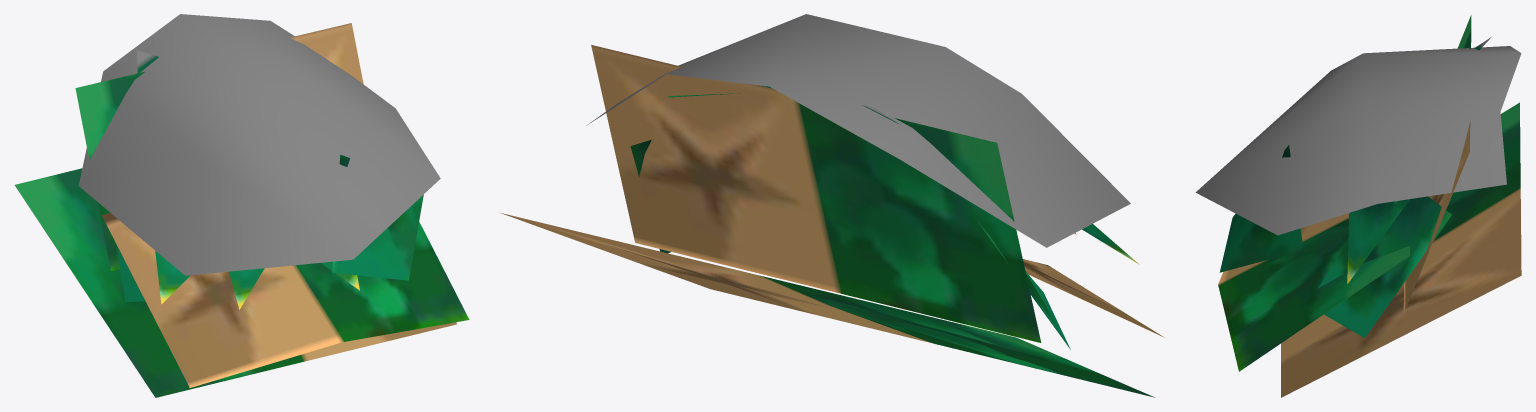
Rendered from fg_bushC_2_s.dae.
3 renders of one model, left to right at view 1: azimuth 30°, elevation 25°; view 2: azimuth 150°, elevation 25°; view 3: azimuth 270°, elevation 25°, orthographic. The views are drawn at different scales.
Parts seen in each view (by area): view 1: fg_bushC_2_s; view 2: fg_bushC_2_s; view 3: fg_bushC_2_s.
Part boxes in pixels (box(x1,y1,x2,y2)): fg_bushC_2_s: box(14, 14, 469, 397); fg_bushC_2_s: box(501, 14, 1164, 397); fg_bushC_2_s: box(1195, 15, 1521, 397).
Size of the model in its own units: 47.83 by 34.27 by 38.04.
1 material, 1 textured.
